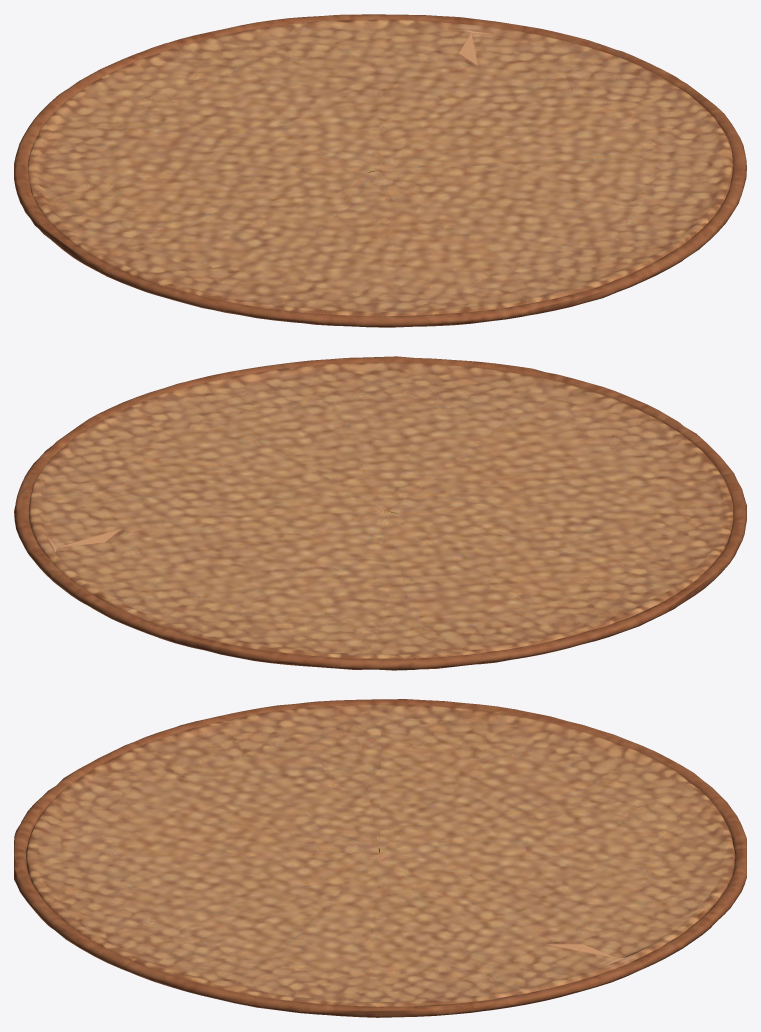
Rendered from round_jute_rug.glb.
3 renders of one model, top to bottom at view 1: azimuth 30°, elevation 25°; view 2: azimuth 150°, elevation 25°; view 3: azimuth 270°, elevation 25°, orthographic.
Visible parts, largest first — view 1: geometry_0; view 2: geometry_0; view 3: geometry_0.
Boxes of the visible parts, <box> form: geometry_0: <box>14,14,746,327</box>; geometry_0: <box>14,356,746,670</box>; geometry_0: <box>14,699,746,1017</box>.
Size of the model in its own units: 1 by 0.0156 by 1.
1 material, 1 textured.
